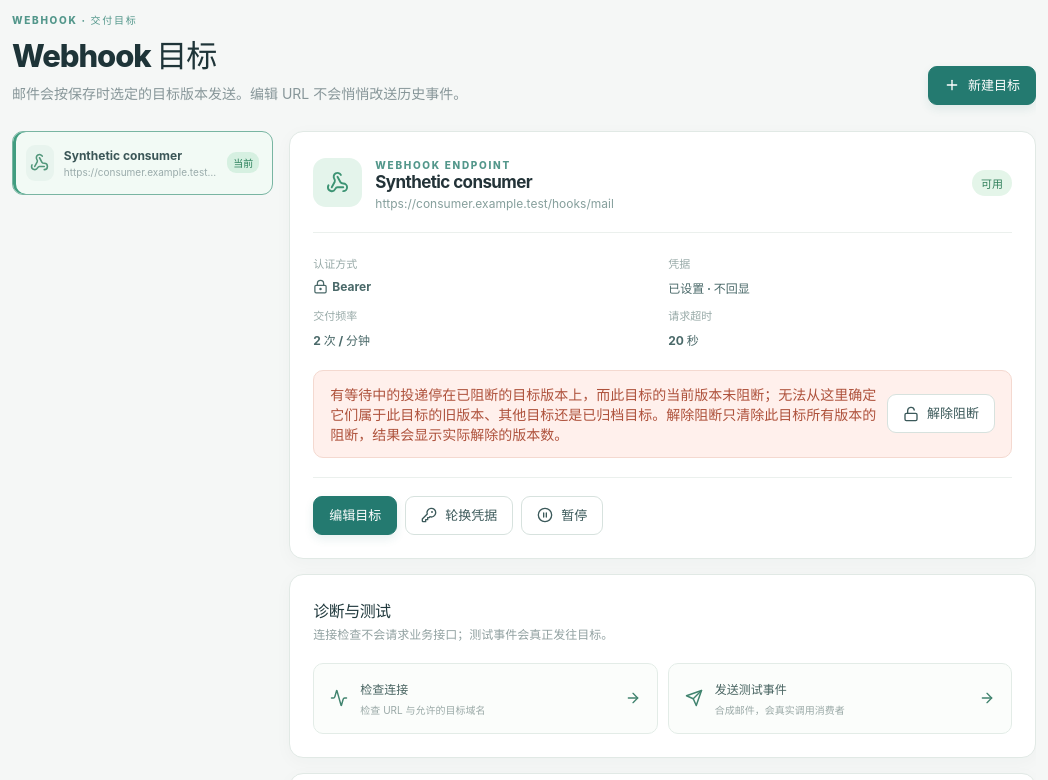
Test case: does not claim success when this endpoint had no blocked revision
Expected: the text "无法从这里确定" is shown, x1=330 y1=386 x2=876 y2=443
What coordinates should you click on to do the following:
click the button "解除阻断"
I would click on:
 (941, 414)
Its box is x1=887 y1=394 x2=995 y2=434.
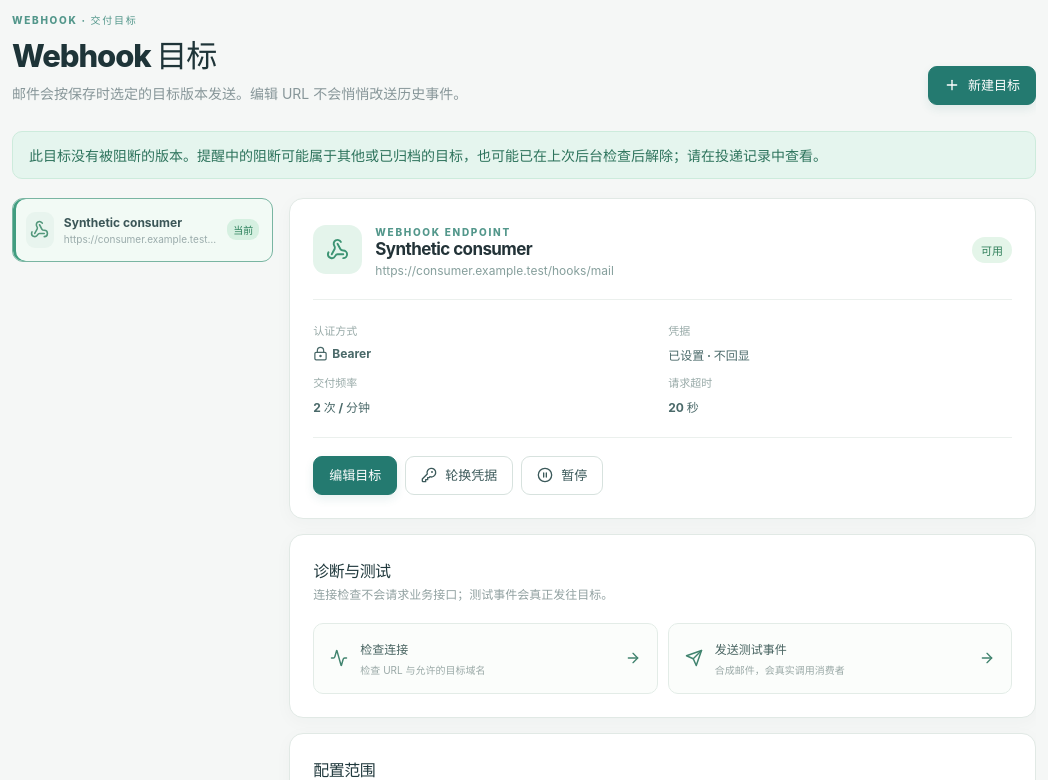
Expected: the text "此目标没有被阻断的版本。提醒中的阻断可能属于其他或已归档的目标，也可能已在上次后台检查后解除；请在投递记录中查看。" is shown, x1=12 y1=131 x2=1036 y2=179
